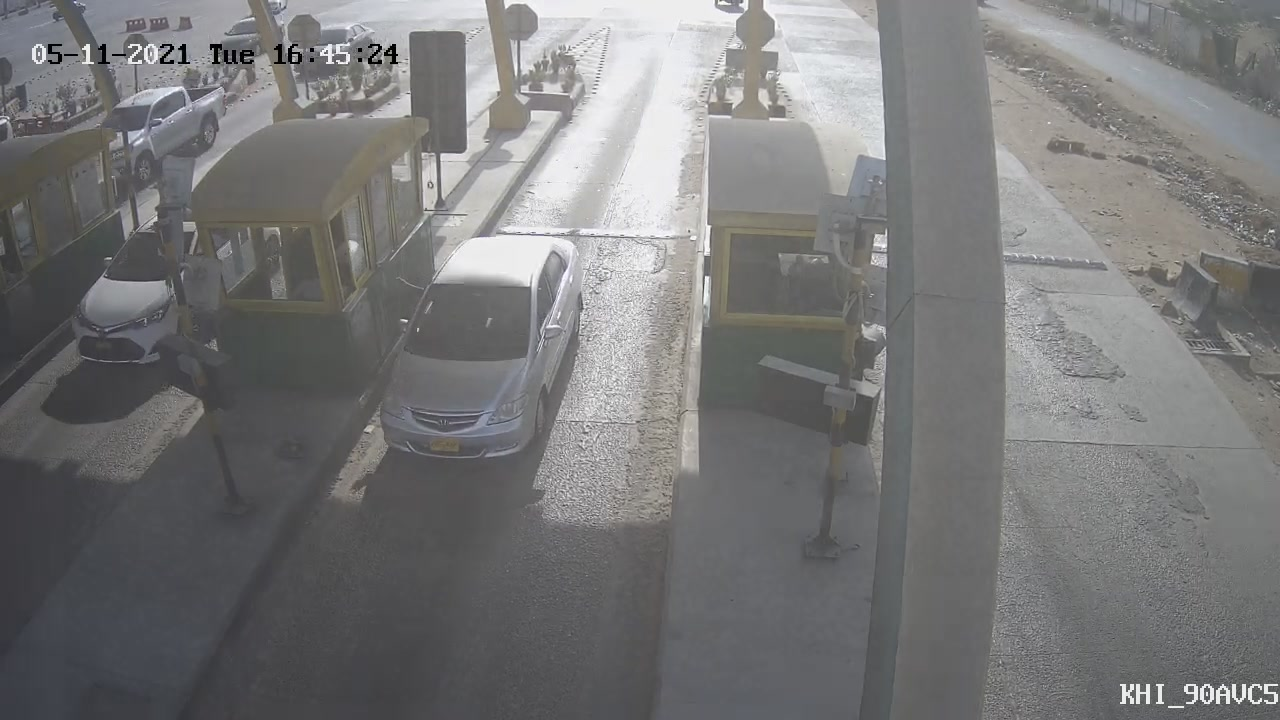F1: (361, 211, 604, 483)
